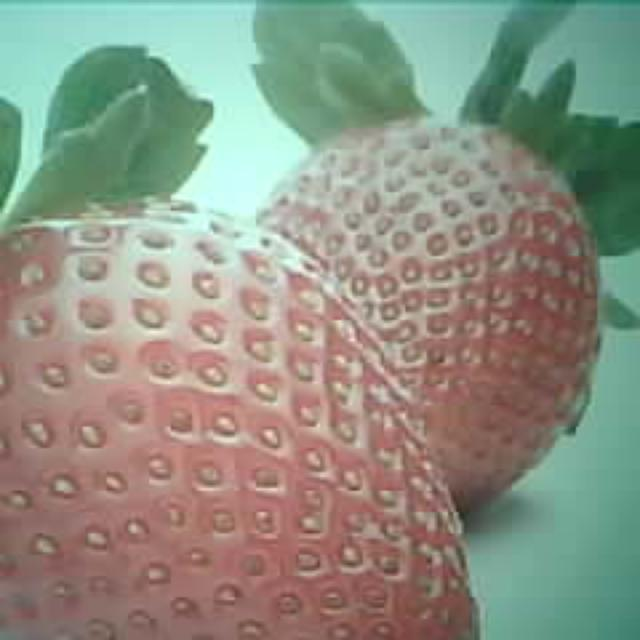strawberry: (0, 200, 482, 640), (252, 112, 604, 520)
